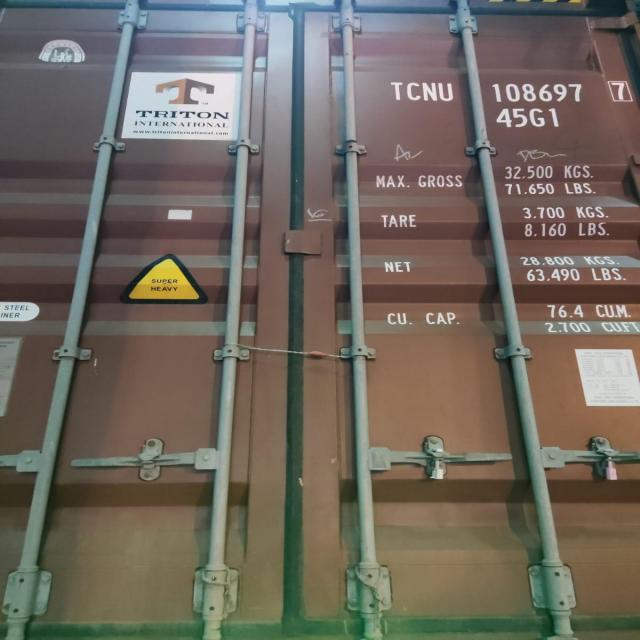seal: (426, 445, 449, 481), (601, 446, 622, 482)
